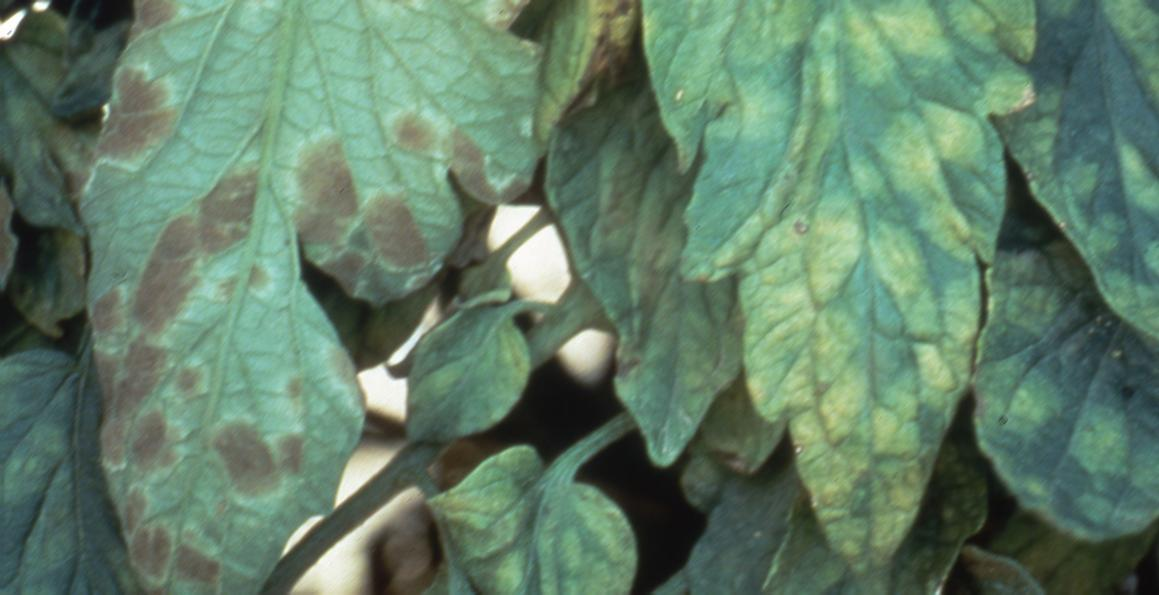Tomato mold leaf: (60, 0, 540, 595), (649, 0, 1051, 591), (943, 0, 1159, 421), (402, 444, 645, 595)
